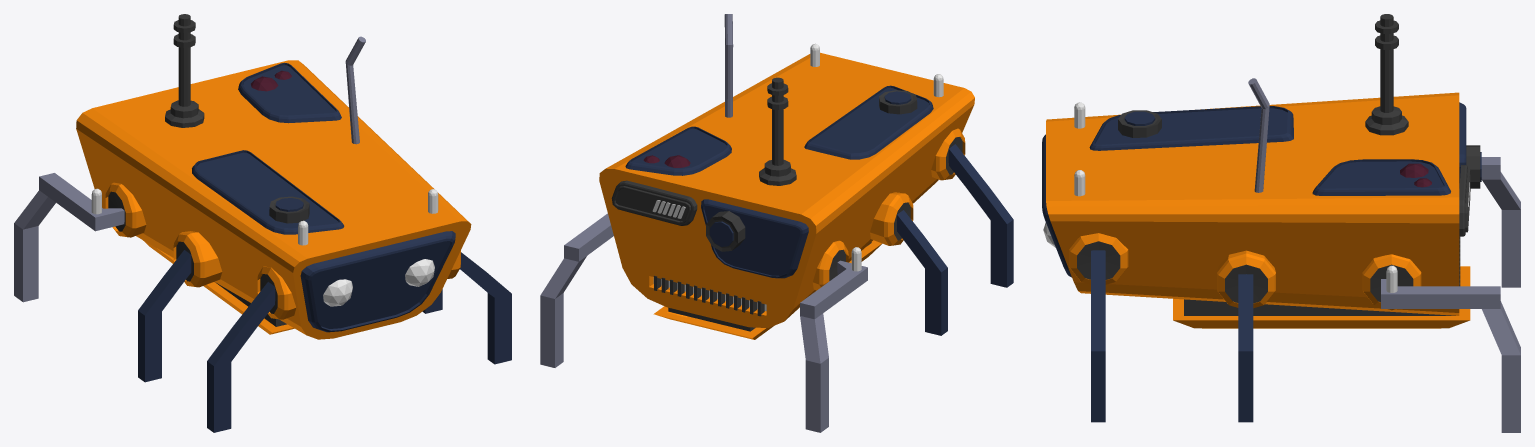
Rendered from 02_Rover_Carroceria.fbx.
3 renders of one model, left to right at view 1: azimuth 30°, elevation 25°; view 2: azimuth 150°, elevation 25°; view 3: azimuth 270°, elevation 25°, orthographic. The views are drawn at different scales.
Parts seen in each view (by area): view 1: Base; view 2: Base; view 3: Base.
Boxes of the visible parts, left/top/right/bottom form: Base: left=14, top=14, right=511, bottom=432; Base: left=540, top=14, right=1013, bottom=432; Base: left=1042, top=14, right=1520, bottom=432.
Bounding box in the file's own units: 282 × 270 × 367.
